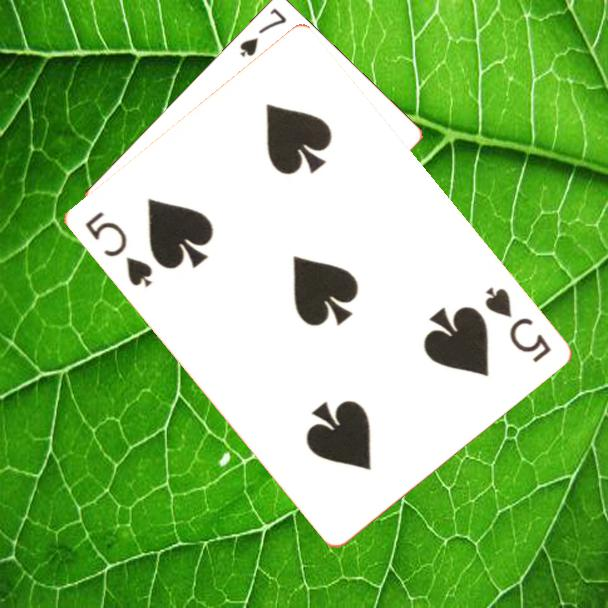s05: (80, 208, 155, 290), (480, 283, 554, 366)
s07: (236, 5, 289, 60)
